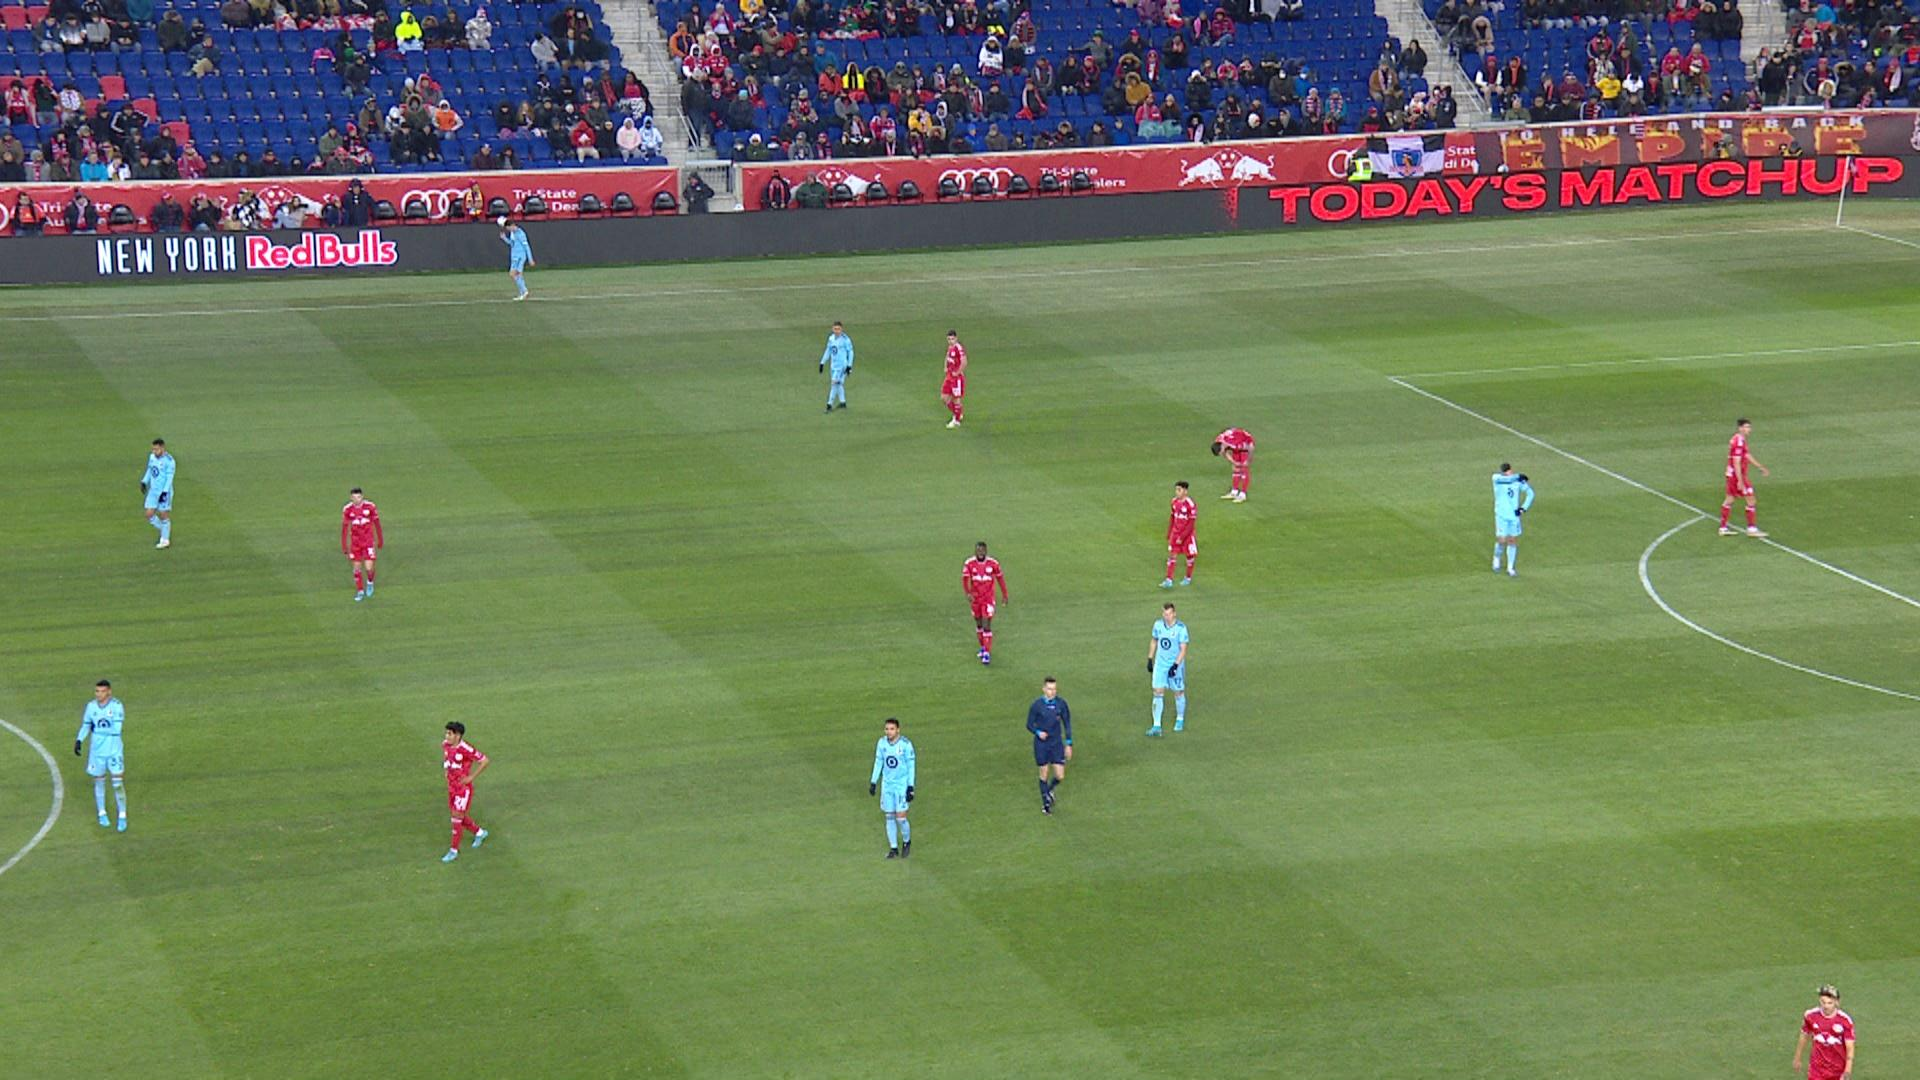football: (497, 216, 506, 227)
